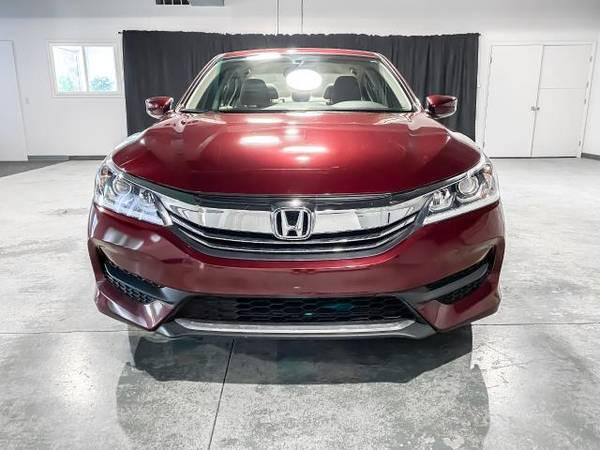Front_Bumper: (87, 185, 508, 328)
Front_Windshield: (172, 46, 422, 113)
Grille: (164, 288, 442, 336)
Hood: (113, 109, 483, 199)
Left_Headlight: (418, 153, 500, 229)
Left_Mirror: (427, 92, 459, 116)
Right_Headlight: (94, 155, 173, 226)
Right_Mirror: (143, 97, 173, 121)
